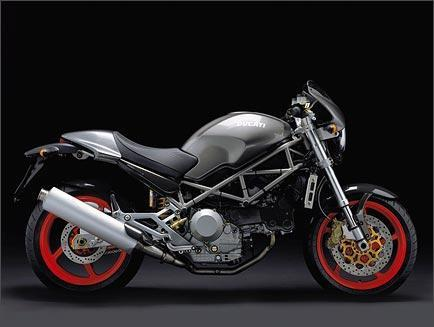motorcycle: (3, 68, 419, 307)
